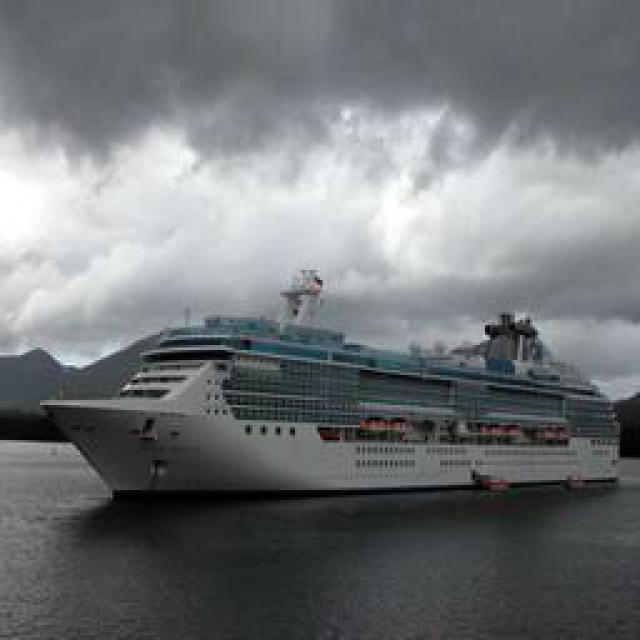Ship: (45, 276, 628, 496)
